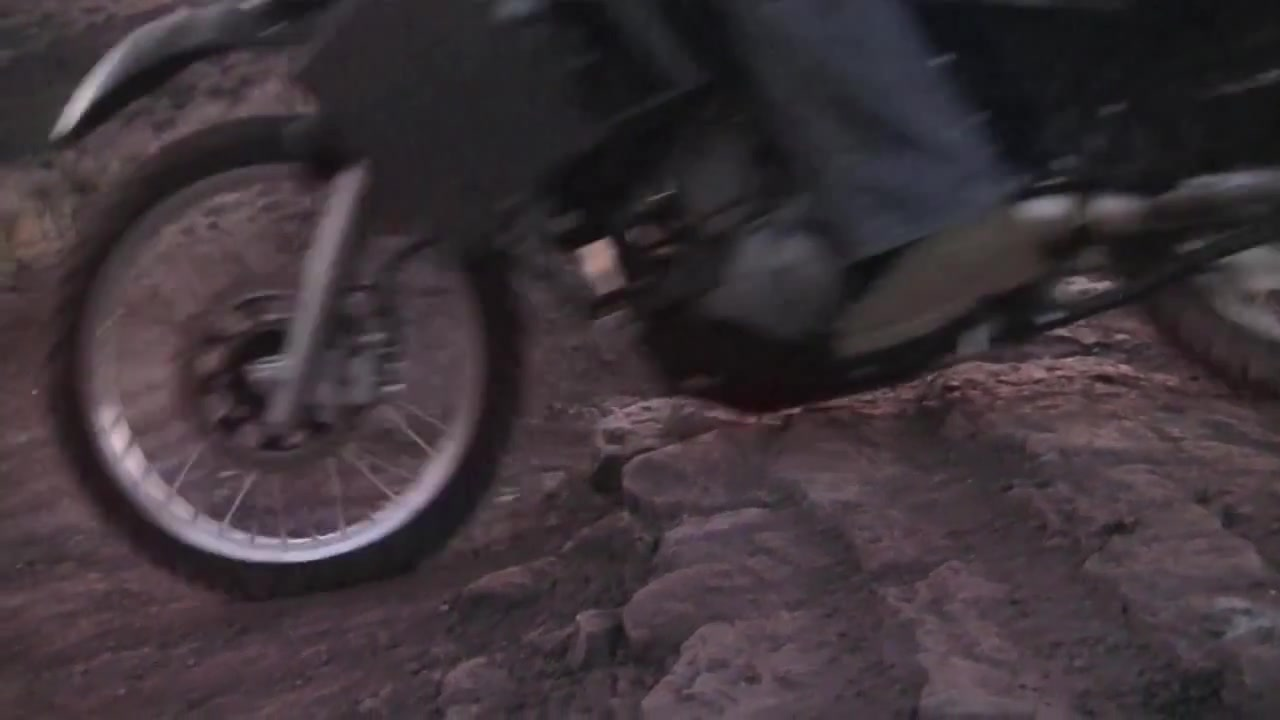motorbike: (39, 3, 1280, 607)
